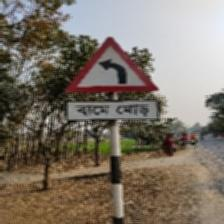Left-Turn: (62, 36, 161, 123)
